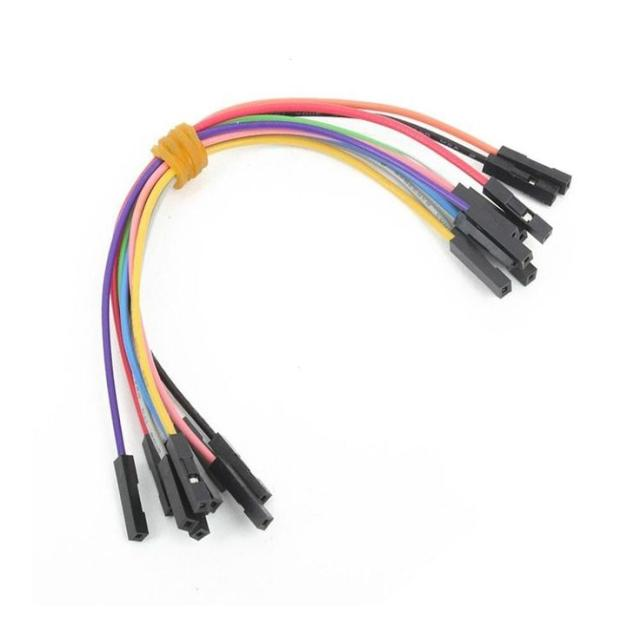Jumper Wires: (96, 90, 585, 560)
